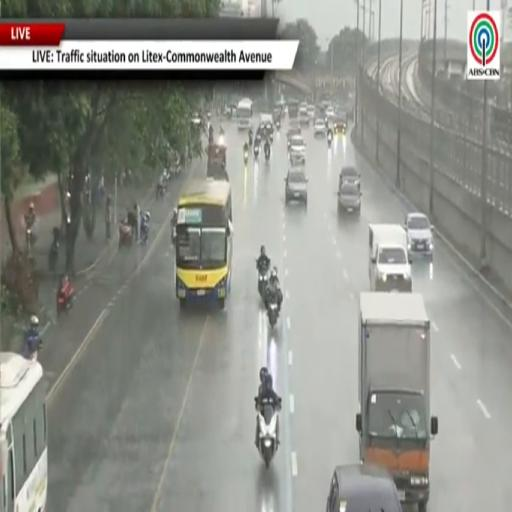bus: (0, 352, 47, 511), (176, 179, 233, 309), (237, 99, 252, 131), (287, 100, 299, 121)
car: (326, 463, 402, 511), (405, 213, 433, 261), (285, 167, 307, 205), (338, 181, 362, 215), (289, 135, 305, 162), (340, 167, 360, 187), (286, 127, 300, 149), (298, 103, 309, 126), (333, 117, 346, 134), (314, 118, 326, 136), (191, 112, 203, 126), (307, 105, 315, 119), (326, 106, 334, 119)
motorcycle: (255, 397, 281, 468), (57, 281, 74, 316), (24, 334, 42, 360), (48, 239, 59, 273), (119, 222, 133, 248), (140, 212, 150, 244), (267, 301, 278, 328), (258, 267, 267, 299), (26, 227, 36, 252), (156, 183, 166, 199), (253, 145, 260, 159), (265, 143, 270, 161), (327, 133, 332, 148), (275, 120, 281, 131), (244, 151, 248, 165), (249, 133, 253, 147), (268, 132, 273, 143), (287, 139, 290, 150)
truck: (356, 293, 438, 511), (369, 223, 411, 292), (207, 144, 229, 181), (287, 100, 299, 123)
